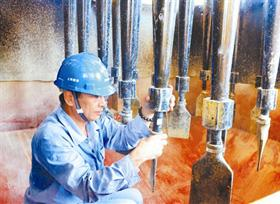hard-hat: (53, 52, 115, 96)
person: (22, 51, 176, 204)
